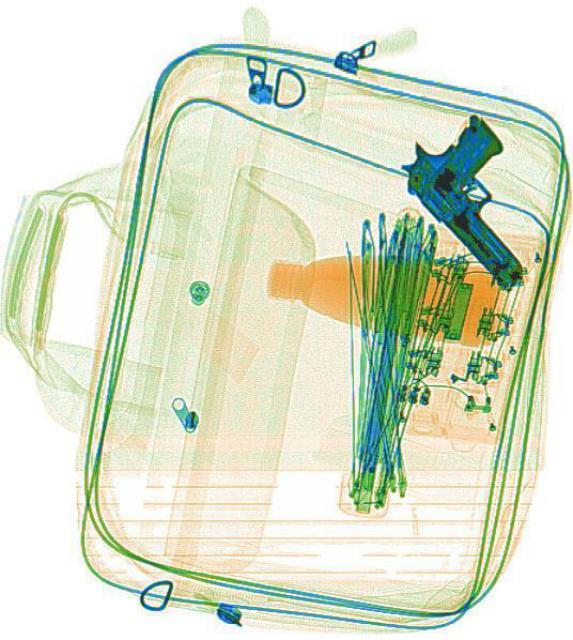Gun: (393, 105, 571, 288)
